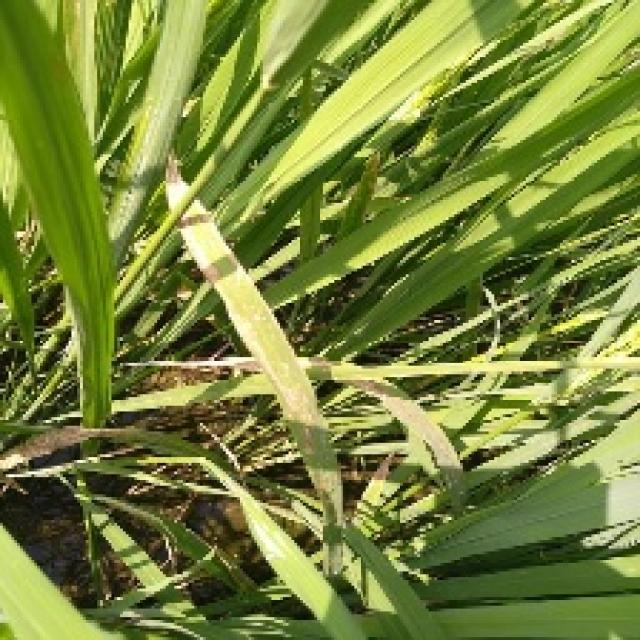Unhealthy: (227, 302, 317, 449), (350, 380, 459, 469), (0, 427, 119, 474), (177, 214, 220, 284), (194, 214, 240, 273), (117, 357, 262, 373), (166, 154, 186, 204), (310, 475, 336, 493), (300, 358, 334, 367), (373, 458, 387, 479), (368, 155, 377, 169)
